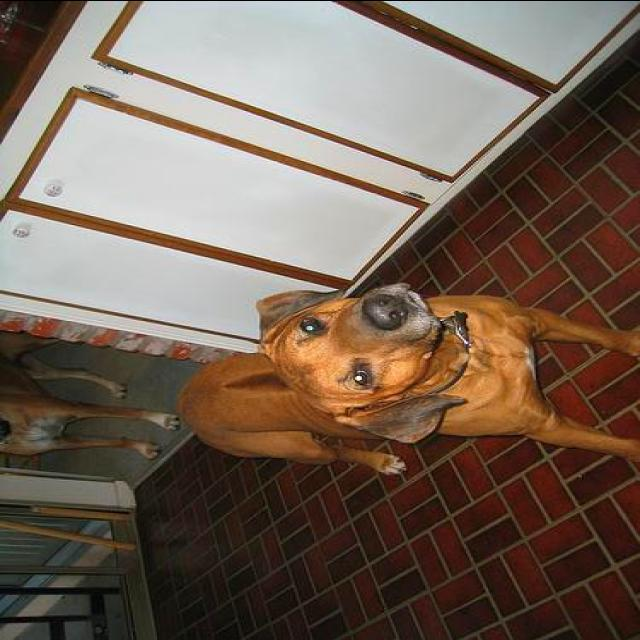rhodesian_ridgeback: (174, 276, 638, 484), (0, 326, 181, 456)
